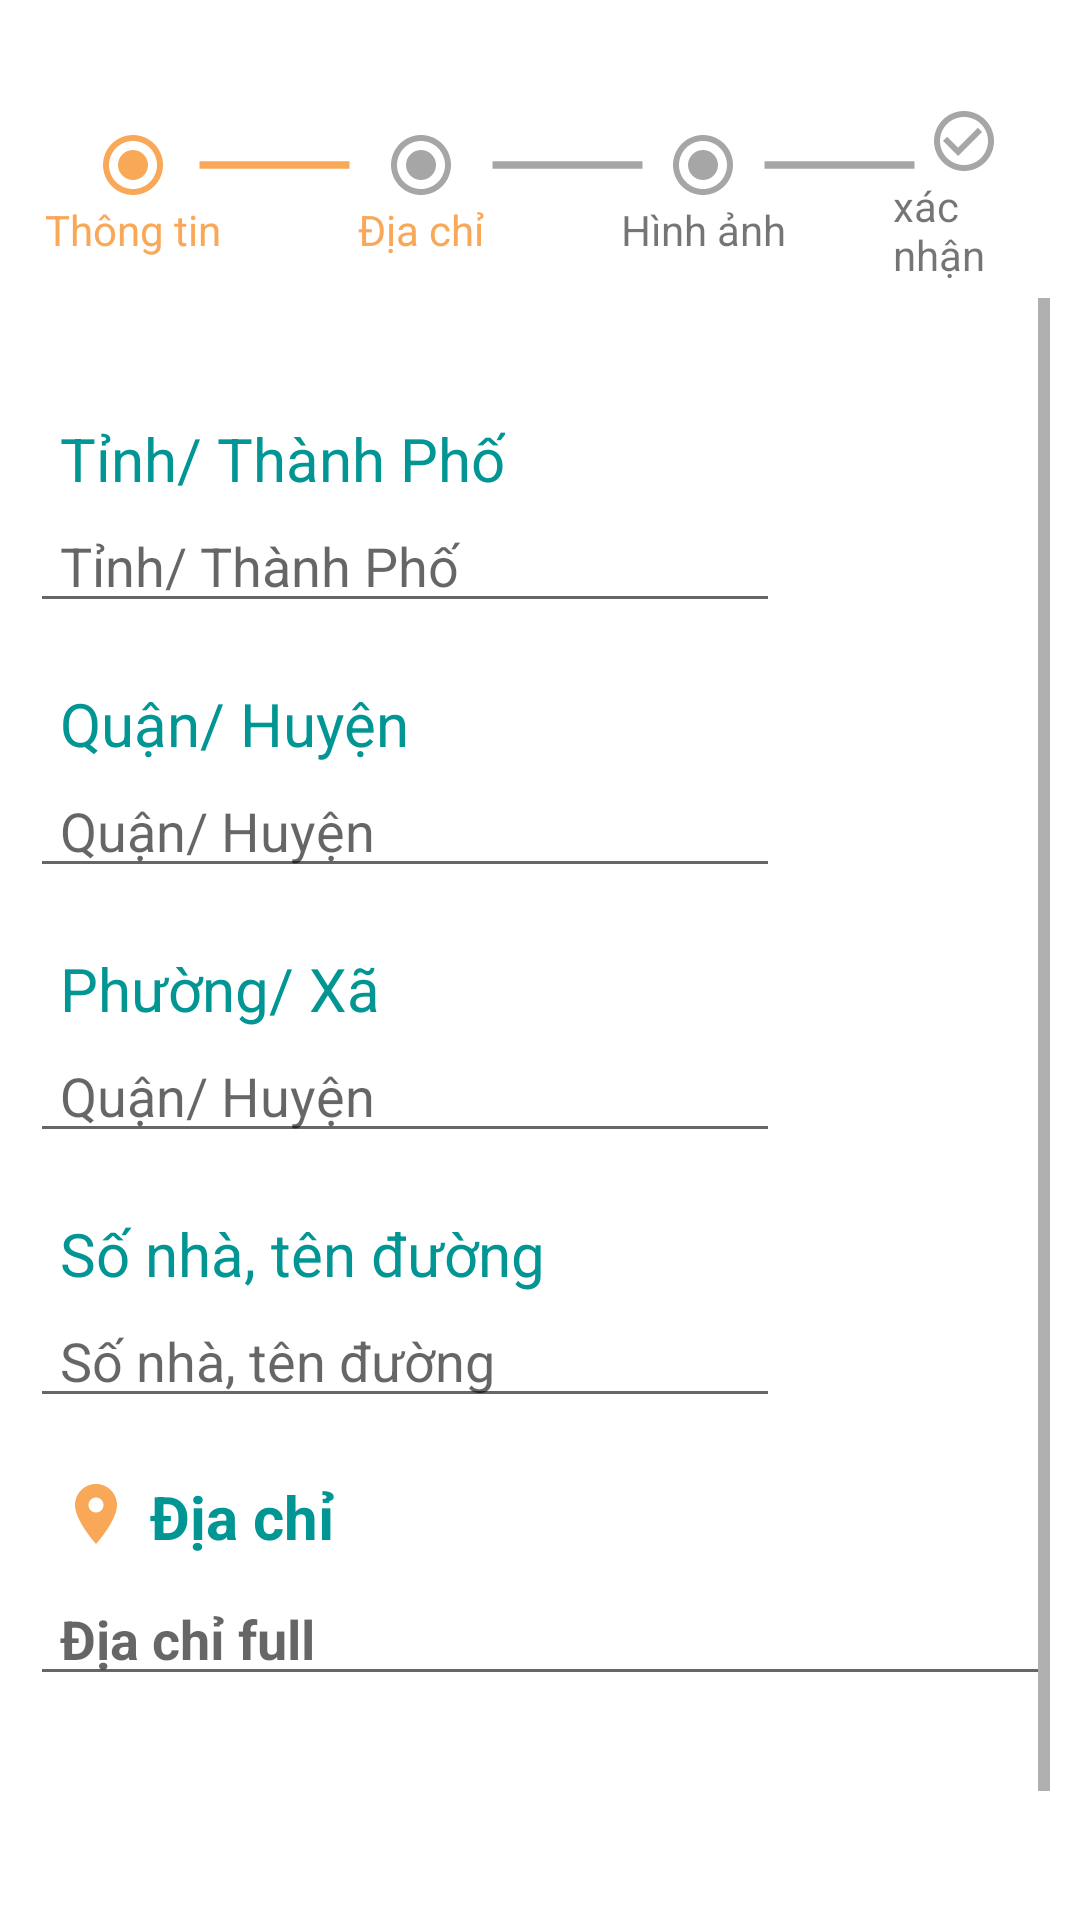

Point at icon controls on the screen. Image size 1080×1920, points as point (x, y).
location on: point (96, 1514)
